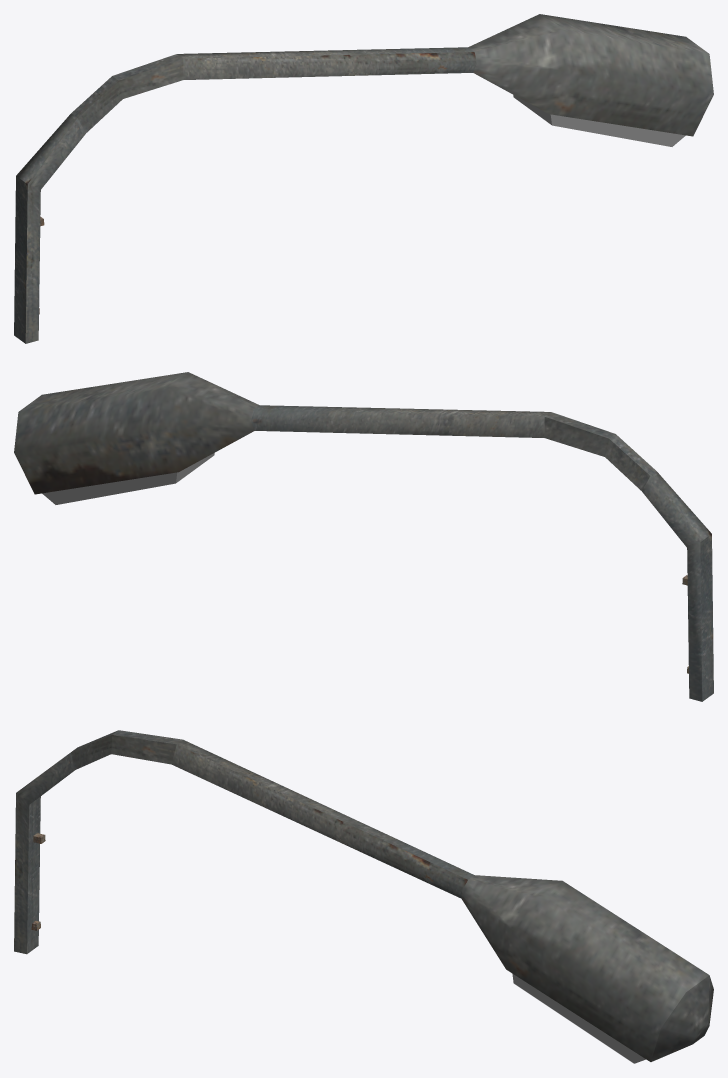
The model's file is LampWallA.FBX.
3 views of the same model, one above another, from view 1: azimuth 30°, elevation 25°; view 2: azimuth 150°, elevation 25°; view 3: azimuth 330°, elevation 25° (orthographic).
Parts seen in each view (by area): view 1: LampWallA; view 2: LampWallA; view 3: LampWallA.
Boxes of the visible parts, x1,y1,x2,y2 form: LampWallA: [14, 14, 713, 343]; LampWallA: [14, 372, 713, 701]; LampWallA: [14, 730, 713, 1063].
Bounding box in the file's own units: 177 × 60.37 × 23.66.
2 materials, 1 textured.
